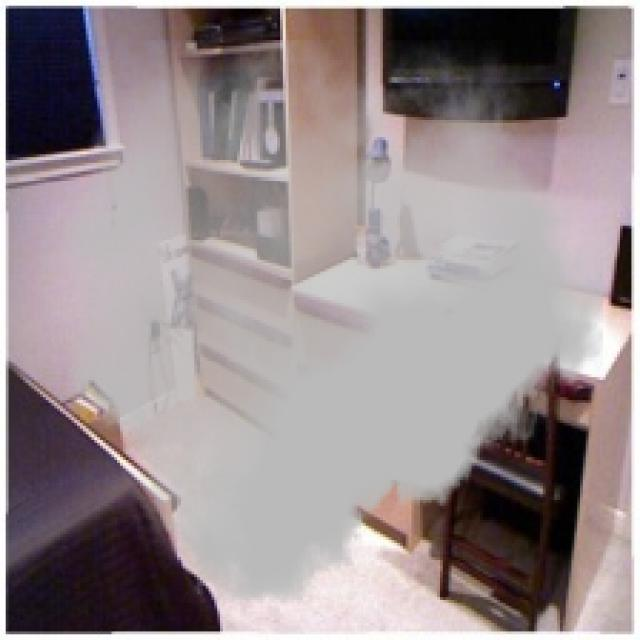smoke: (60, 40, 603, 603)
